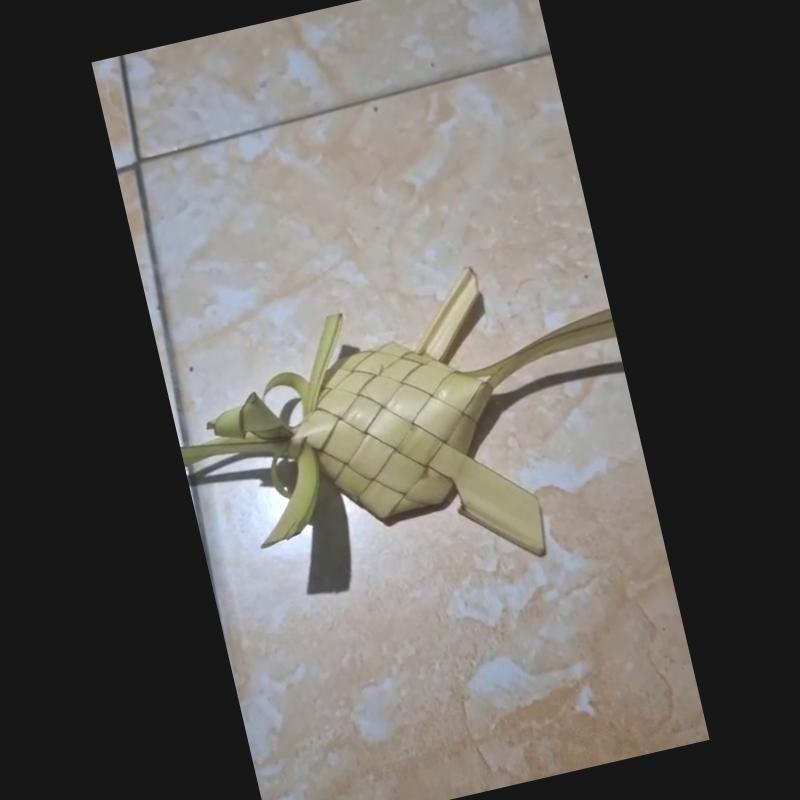Tipat Dampulan: (179, 265, 615, 549)
